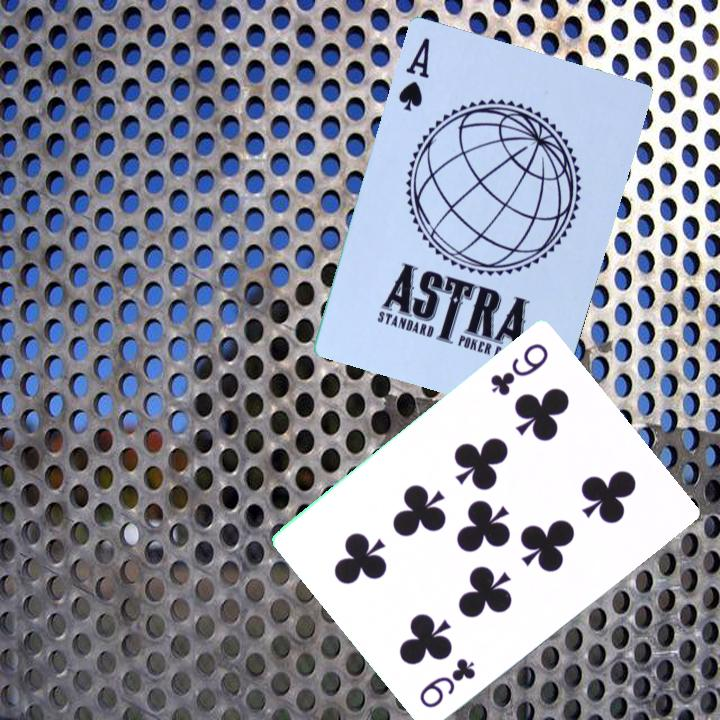9c: (486, 338, 552, 399), (415, 653, 479, 711)
As: (394, 33, 433, 111)
